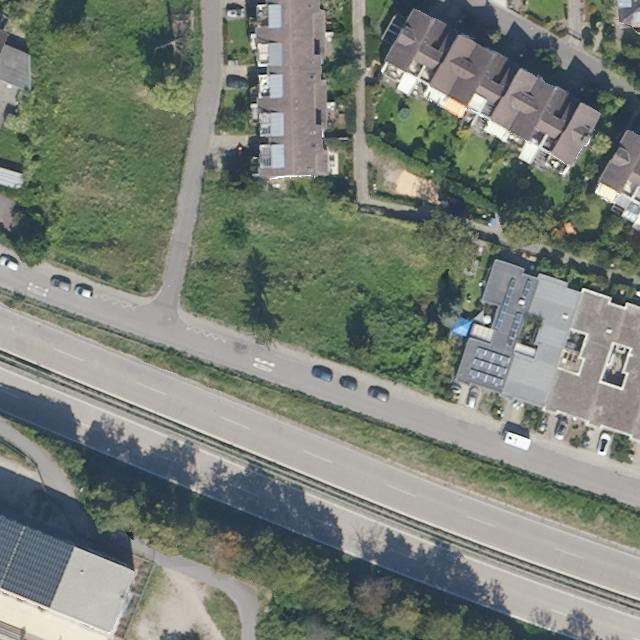PV: (0, 510, 78, 610), (467, 345, 514, 390), (493, 275, 519, 332), (505, 310, 526, 350), (520, 278, 535, 300)
